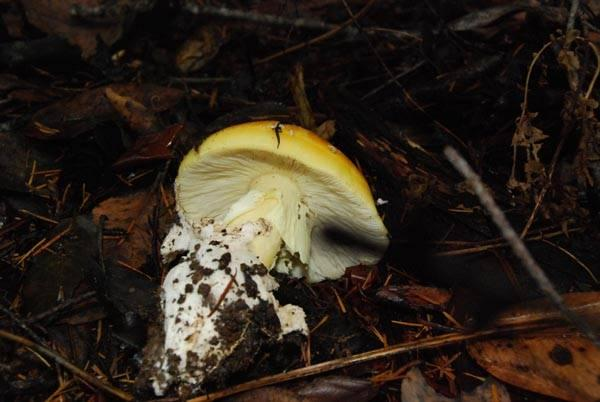Edible Mushroom: (171, 117, 391, 284)
